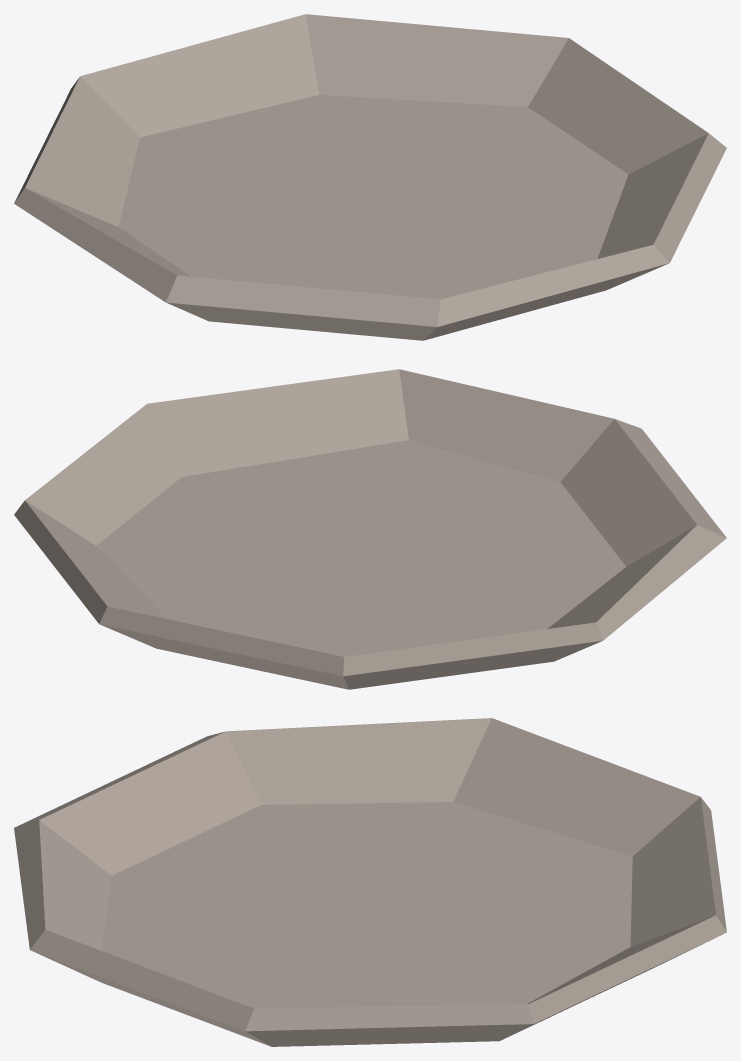
Rendered from SM_Plate_B.fbx.
3 views of the same model, one above another, from view 1: azimuth 30°, elevation 25°; view 2: azimuth 150°, elevation 25°; view 3: azimuth 270°, elevation 25° (orthographic). The views are drawn at different scales.
Parts seen in each view (by area): view 1: SM_Plates_B; view 2: SM_Plates_B; view 3: SM_Plates_B.
Boxes of the visible parts, box(x1,y1,x2,y2) form: SM_Plates_B: box(14, 14, 726, 340); SM_Plates_B: box(14, 369, 726, 689); SM_Plates_B: box(14, 718, 726, 1046).
Bounding box in the file's own units: 36.12 × 3.61 × 36.12.
